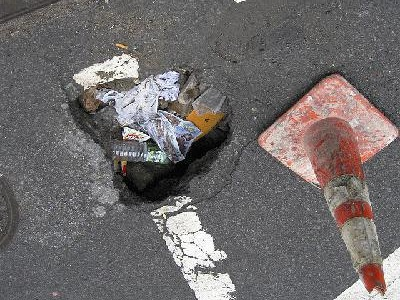pothole: (67, 66, 237, 210)
